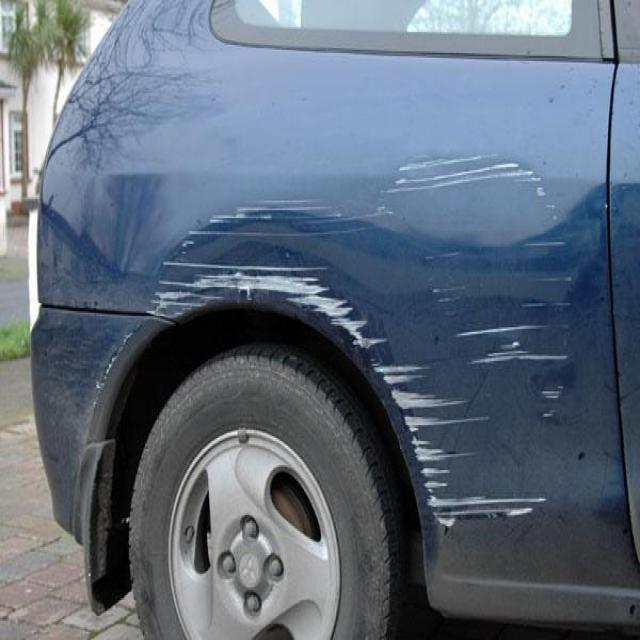scratch: (388, 143, 582, 414), (148, 178, 380, 380), (412, 434, 575, 550)
